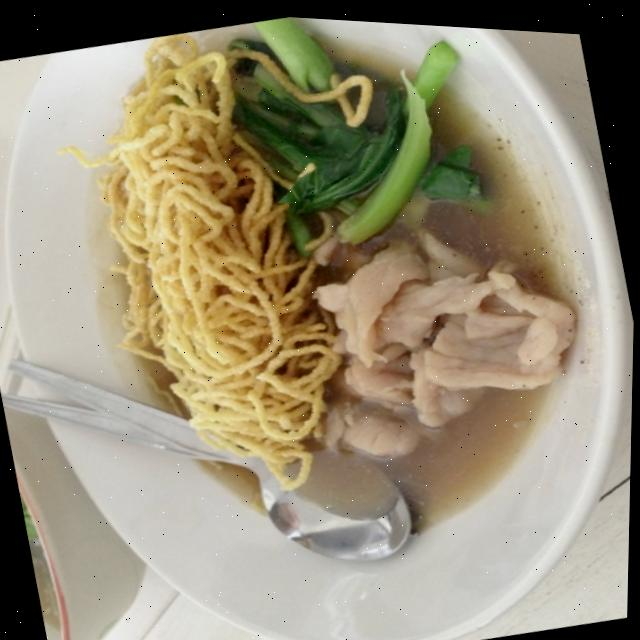面条主食: (39, 2, 610, 590)
